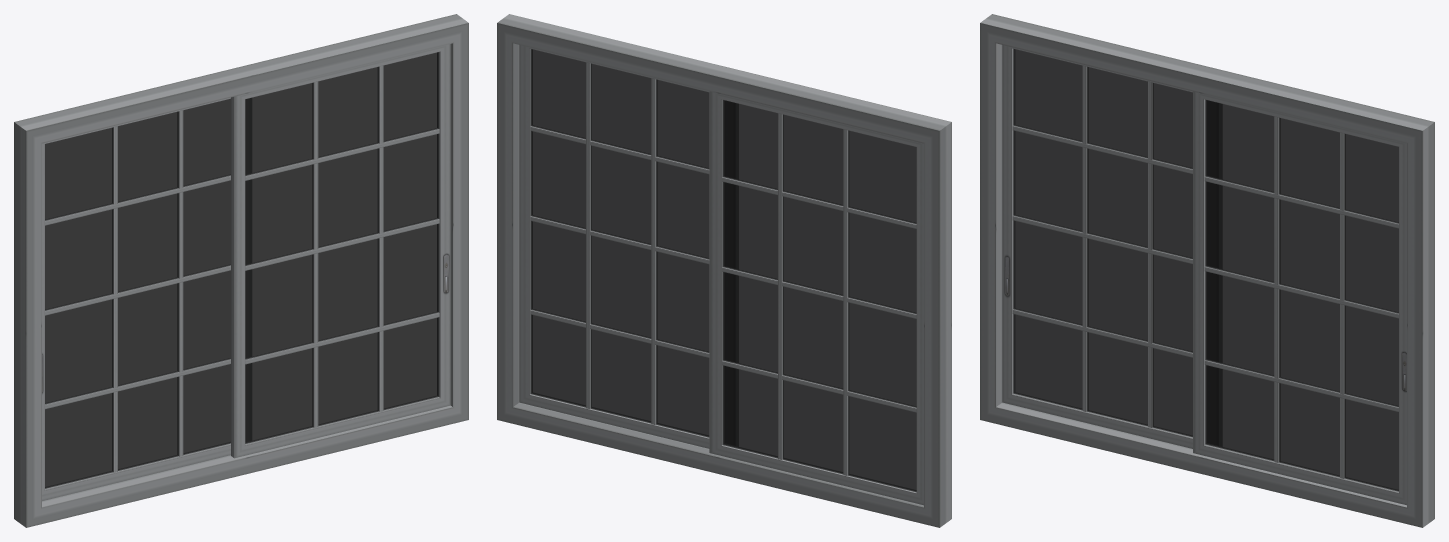
File: window_2_close.FBX
3 renders of one model, left to right at view 1: azimuth 30°, elevation 25°; view 2: azimuth 150°, elevation 25°; view 3: azimuth 330°, elevation 25°, orthographic.
Visible parts, largest first — view 1: Box004, Box014, window_2_closed, Box002, Box016, Box006, Box011, Box007, Box015, Box009, Box008, Box005 (+3 smaller); view 2: Box014, Box004, window_2_closed, Box016, Box002, Box015, Box006, Box007, Box011, Box013, Box012, Box010 (+3 smaller); view 3: Box004, Box014, window_2_closed, Box016, Box002, Box006, Box007, Box015, Box011, Box008, Box009, Box005 (+3 smaller).
Boxes of the visible parts, <box> form: Box004: <box>245,52,438,443</box>; Box014: <box>45,98,230,488</box>; window_2_closed: <box>14,14,468,527</box>; Box002: <box>231,44,450,458</box>; Box016: <box>42,97,251,500</box>; Box006: <box>313,81,318,427</box>; Box011: <box>178,110,183,456</box>; Box007: <box>378,65,383,411</box>; Box015: <box>112,126,117,472</box>; Box009: <box>245,218,439,270</box>; Box008: <box>245,128,439,180</box>; Box005: <box>245,312,439,364</box>; Box014: <box>722,100,916,491</box>; Box004: <box>530,49,709,437</box>; window_2_closed: <box>497,14,951,527</box>; Box016: <box>709,91,923,505</box>; Box002: <box>519,45,738,448</box>; Box015: <box>843,129,848,475</box>; Box006: <box>651,78,656,424</box>; Box007: <box>586,62,591,408</box>; Box011: <box>778,113,783,459</box>; Box013: <box>722,266,916,318</box>; Box012: <box>722,176,916,228</box>; Box010: <box>722,360,916,412</box>; Box004: <box>1205,100,1398,491</box>; Box014: <box>1013,49,1192,437</box>; window_2_closed: <box>980,14,1434,527</box>; Box016: <box>1002,45,1221,448</box>; Box002: <box>1193,91,1406,505</box>; Box006: <box>1274,116,1279,462</box>; Box007: <box>1340,132,1345,478</box>; Box015: <box>1082,66,1087,411</box>; Box011: <box>1148,81,1153,427</box>; Box008: <box>1204,176,1398,228</box>; Box009: <box>1204,266,1398,318</box>; Box005: <box>1204,359,1398,411</box>.
Size of the model in its own units: 21 by 18 by 1.
